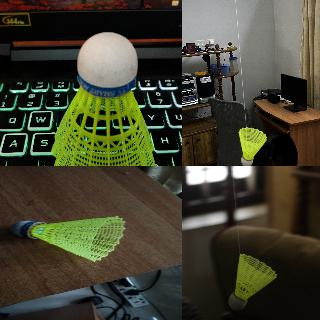shuttlecock: (51, 32, 154, 165), (9, 216, 124, 262), (228, 254, 276, 310), (238, 127, 267, 165)
